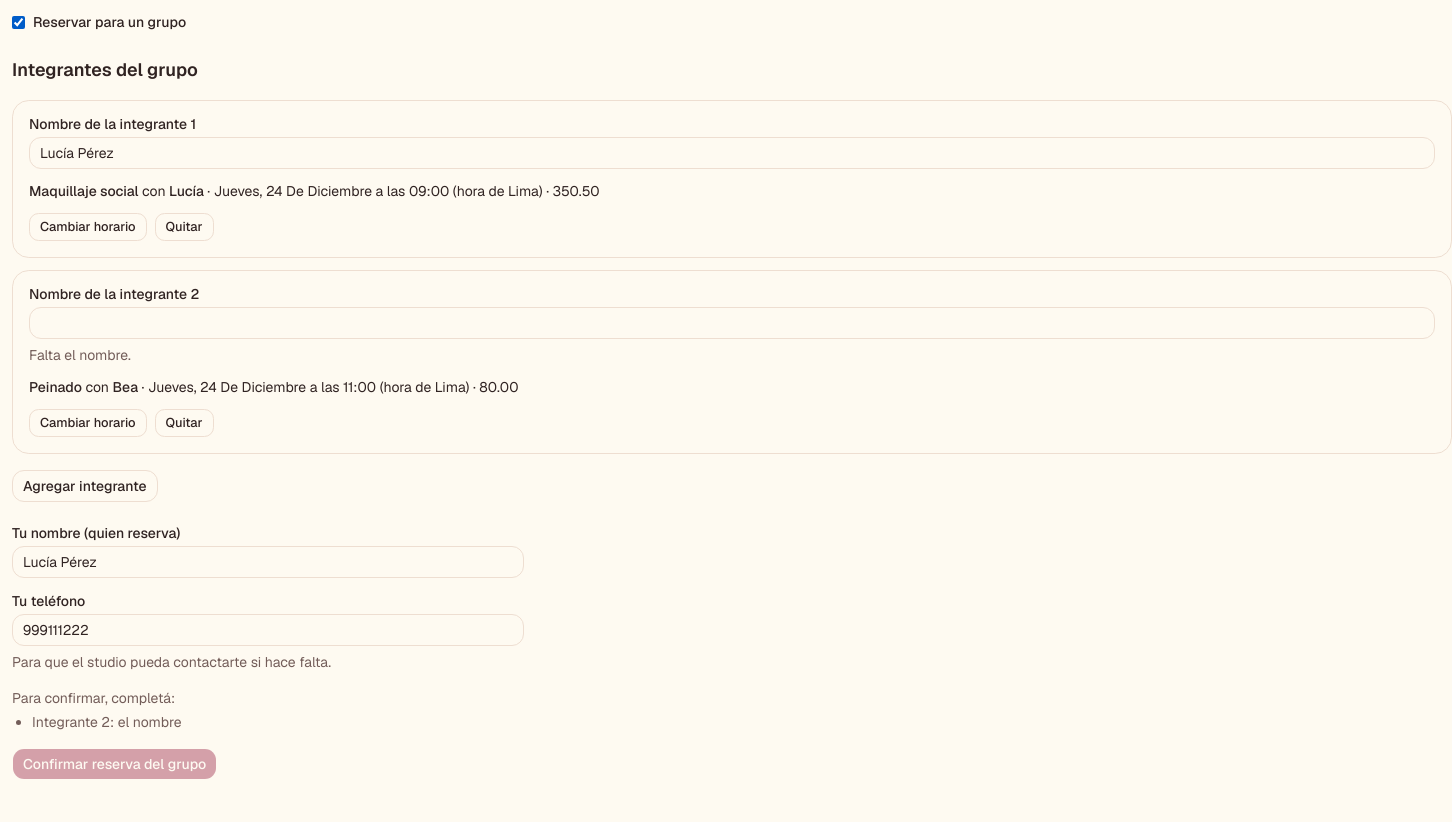
it: armar el grupo › escribir el nombre de una integrante lo guarda y puede habilitar la confirmación
The image size is (1452, 822).
expect the button "Confirmar reserva del grupo" is disabled: met, box [12,748,217,780]
expect the list item "Integrante 2: el nombre" is shown: met, box [32,713,182,731]
Type "Bea" into the field labelled "Nombre de la integrante 2" at (732, 323), box [29,307,1435,339]
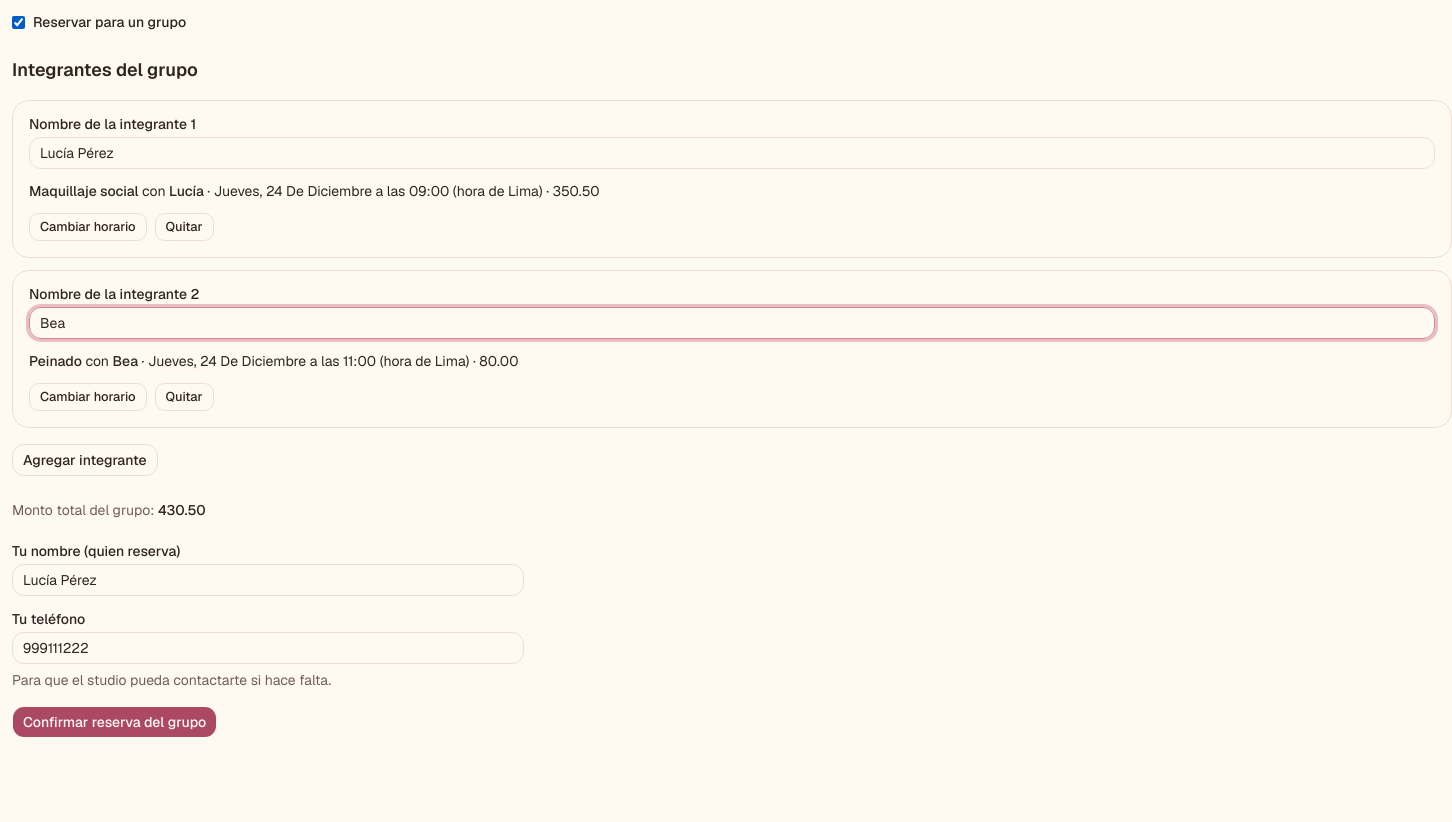
expect the text "Bea" is shown: met, box [112,352,138,370]
expect the button "Confirmar reserva del grupo" is enabled: met, box [12,706,217,738]
